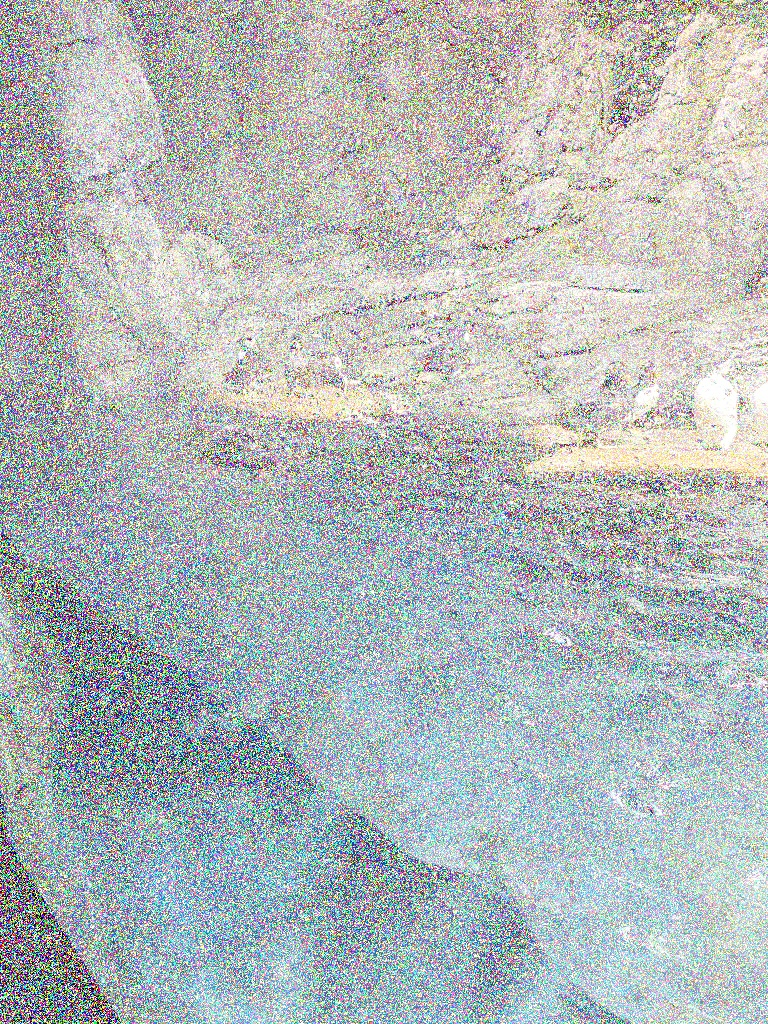puffin: (561, 360, 631, 450), (686, 354, 738, 452), (192, 432, 286, 482), (220, 338, 270, 396), (624, 360, 662, 424), (55, 388, 121, 424), (332, 338, 364, 394), (286, 335, 312, 397), (749, 374, 767, 450)
